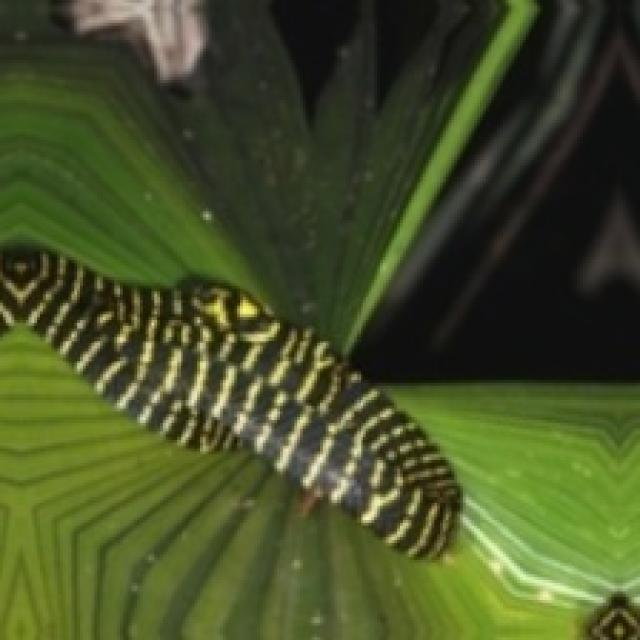mangrove cat snake: (0, 251, 457, 554)
